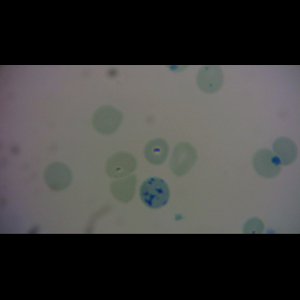aggregate reticulocyte: (138, 176, 171, 210)
erythrocyte: (91, 104, 125, 137), (168, 141, 199, 176), (253, 147, 284, 180), (42, 161, 73, 193), (105, 151, 139, 179), (110, 177, 140, 205), (271, 136, 298, 167), (143, 138, 171, 167)
punctate reticulocyte: (195, 65, 226, 94)
